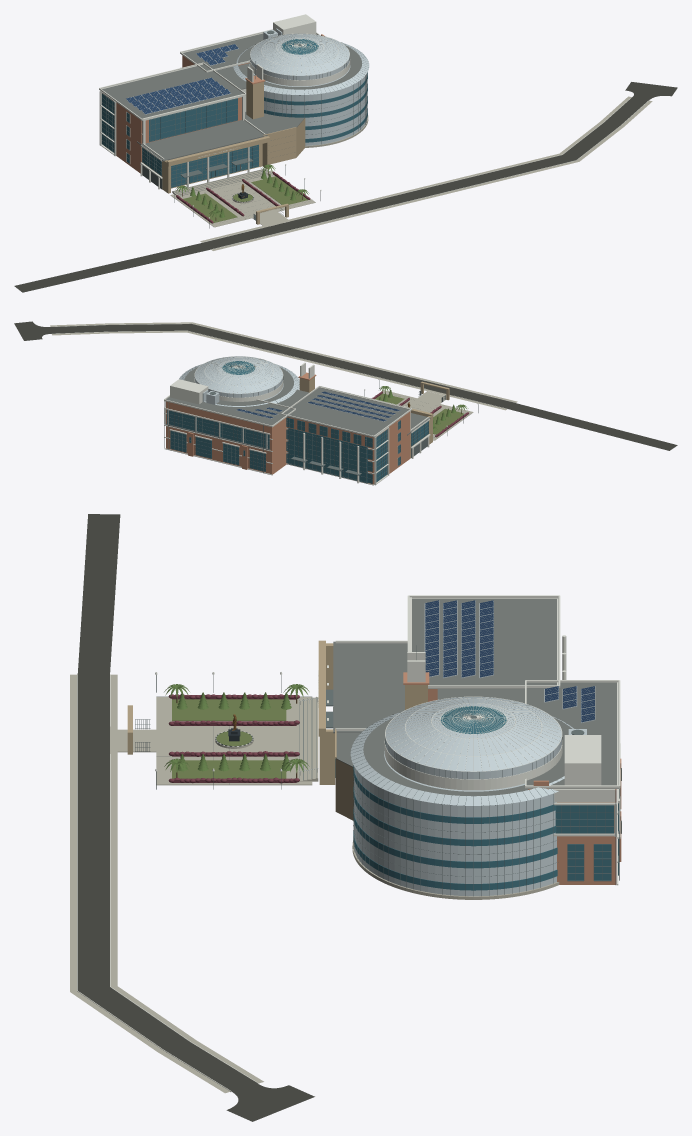
Rendered from library.glb.
3 views of the same model, one above another, from view 1: azimuth 30°, elevation 25°; view 2: azimuth 150°, elevation 25°; view 3: azimuth 270°, elevation 25° (orthographic). The views are drawn at different scales.
Visible parts, largest first — view 1: Long eastern reading wing; view 2: Long eastern reading wing; view 3: Long eastern reading wing.
Part boxes in pixels (x1,y1,x2,y2): Long eastern reading wing: [14, 14, 677, 292]; Long eastern reading wing: [14, 321, 677, 485]; Long eastern reading wing: [70, 514, 621, 1121].
Size of the model in its own units: 276 by 32.05 by 106.
